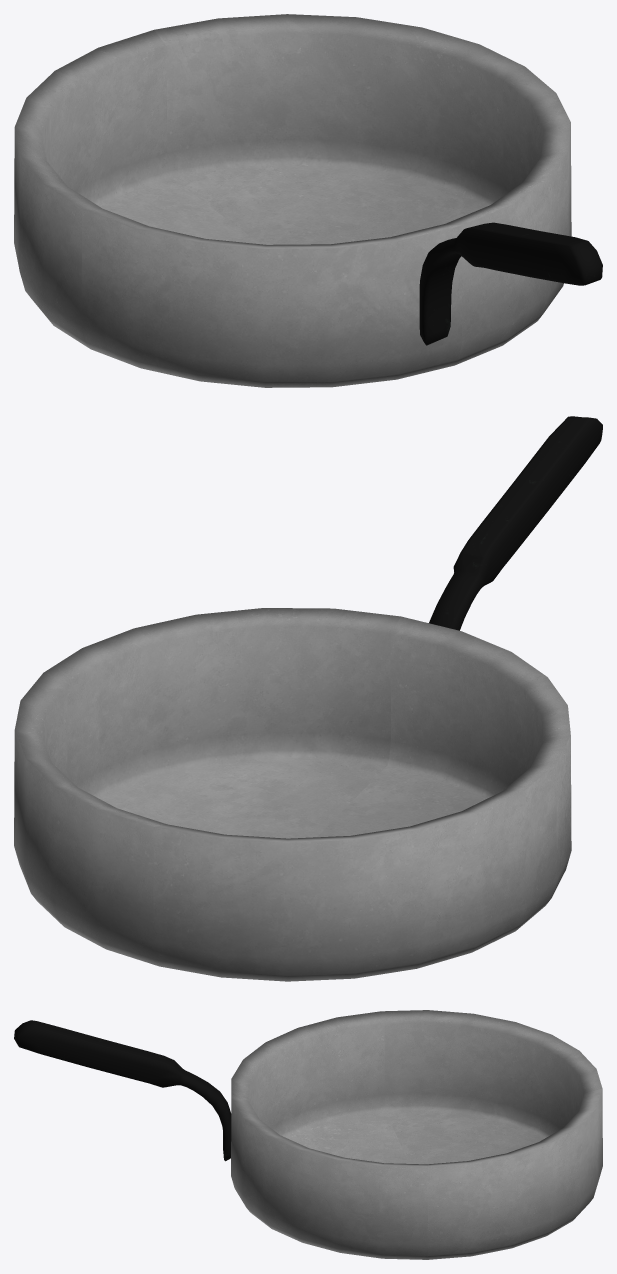
File: pan.fbx
3 renders of one model, top to bottom at view 1: azimuth 30°, elevation 25°; view 2: azimuth 150°, elevation 25°; view 3: azimuth 270°, elevation 25°, orthographic. The views are drawn at different scales.
Visible parts, largest first — view 1: pan; view 2: pan; view 3: pan.
Part boxes in pixels (x1,y1,x2,y2): pan: [14, 14, 602, 387]; pan: [14, 416, 602, 981]; pan: [14, 1010, 602, 1259].
Size of the model in its own units: 2112 by 1020 by 3337.
